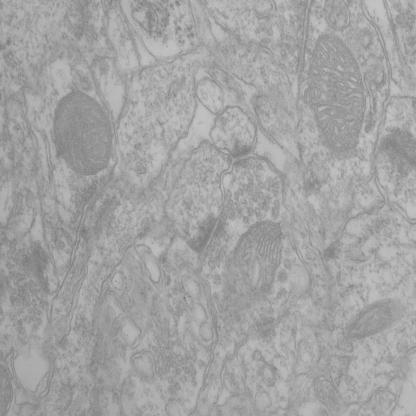mitochondria: (307, 30, 367, 155), (222, 220, 284, 314), (51, 87, 115, 178), (342, 299, 404, 345)
